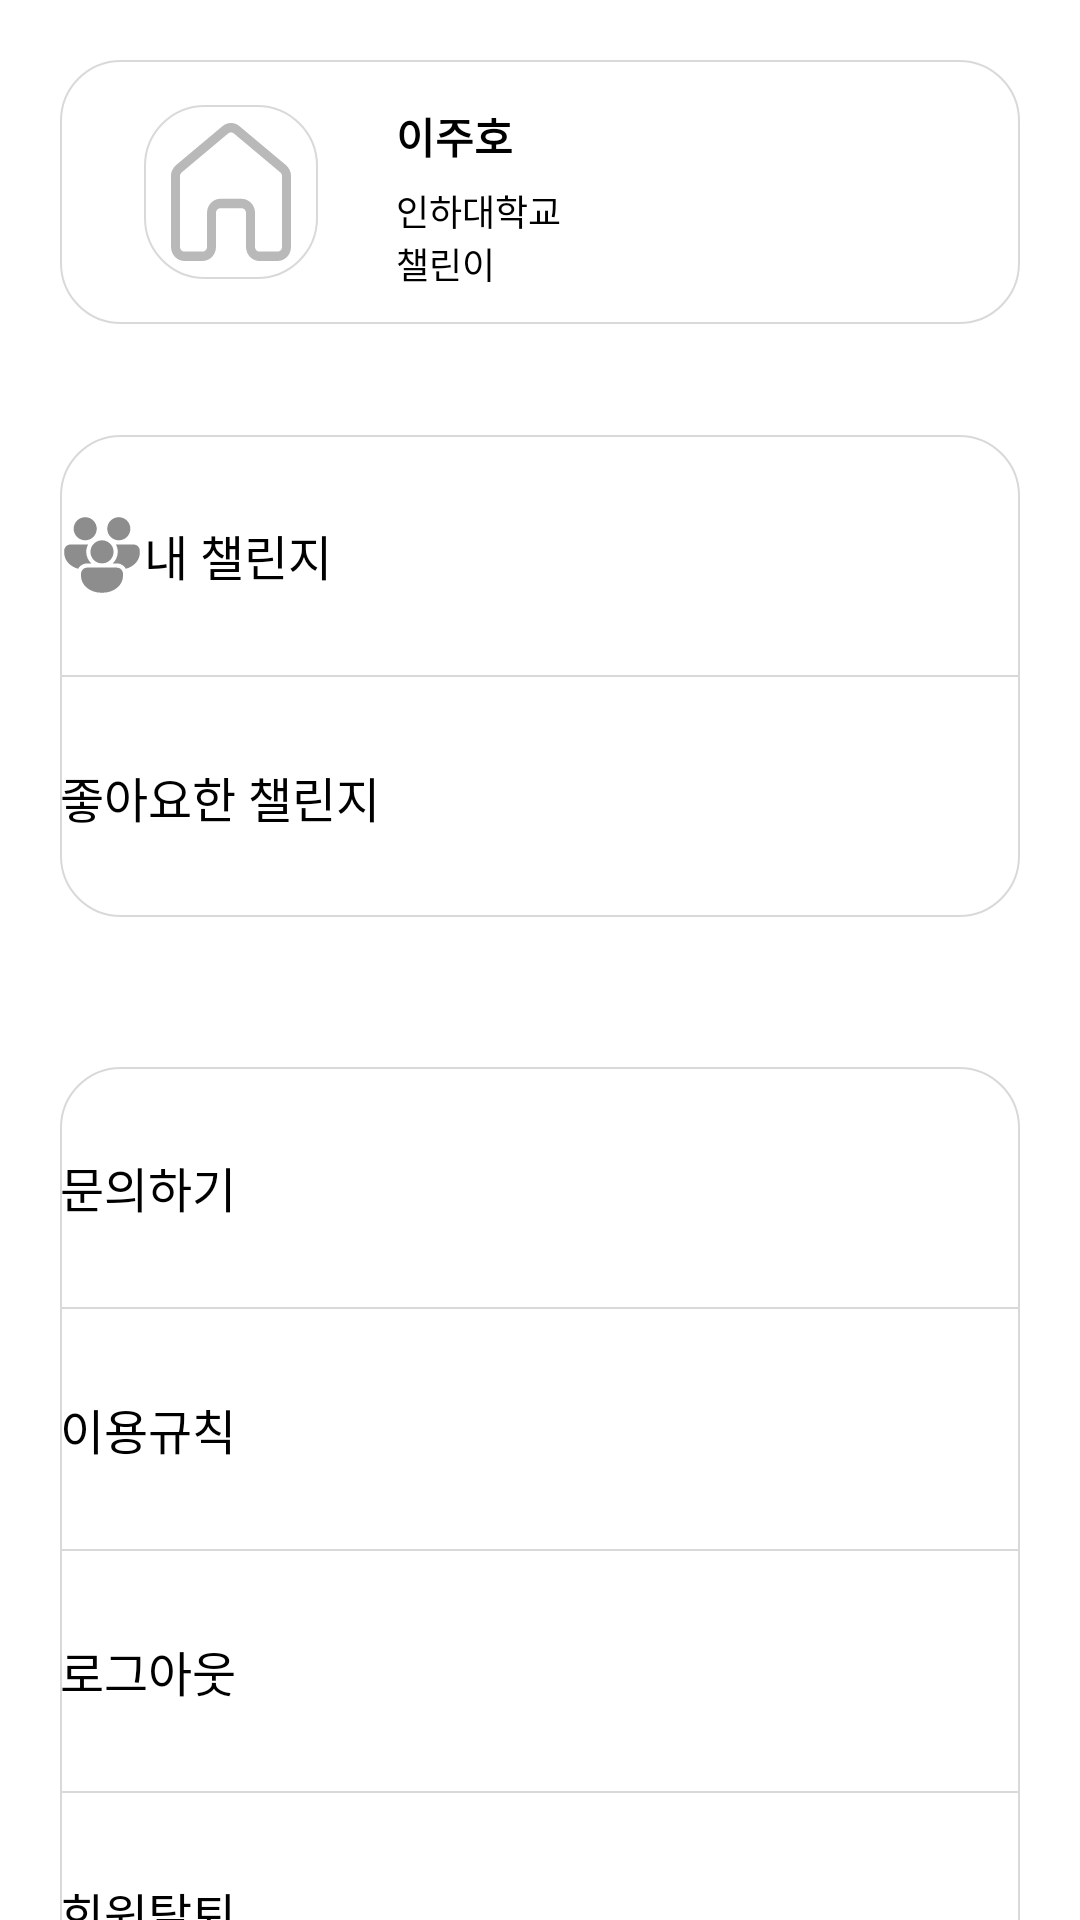

Screen size 1080px x 1920px. Icon name, then its box in pixels as bbox=(x1, y1, x2, y2):
home: bbox=(144, 105, 318, 279)
